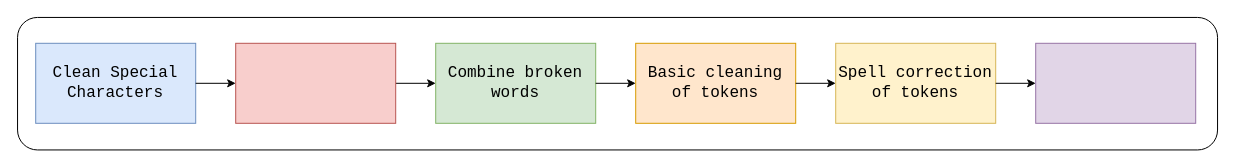
The diagram is 1235 pixels wide and 168 high, and some of its shapes have lost their labels. The box of each missing label's shape, as (x1, y1, x2, y2) in pixels:
Filling abbreviated tokens: (1035, 42, 1196, 123)
Split String to tokens: (235, 42, 396, 123)
